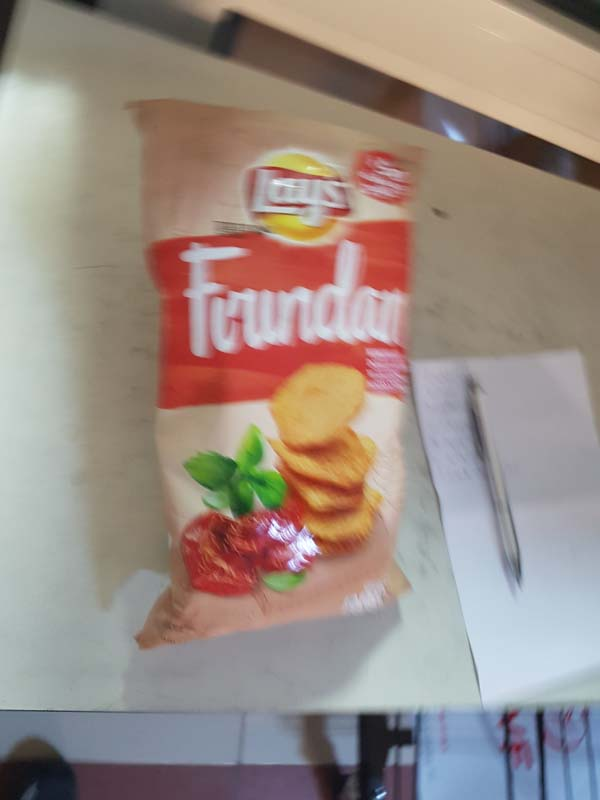laysfirindan: (114, 85, 428, 657)
